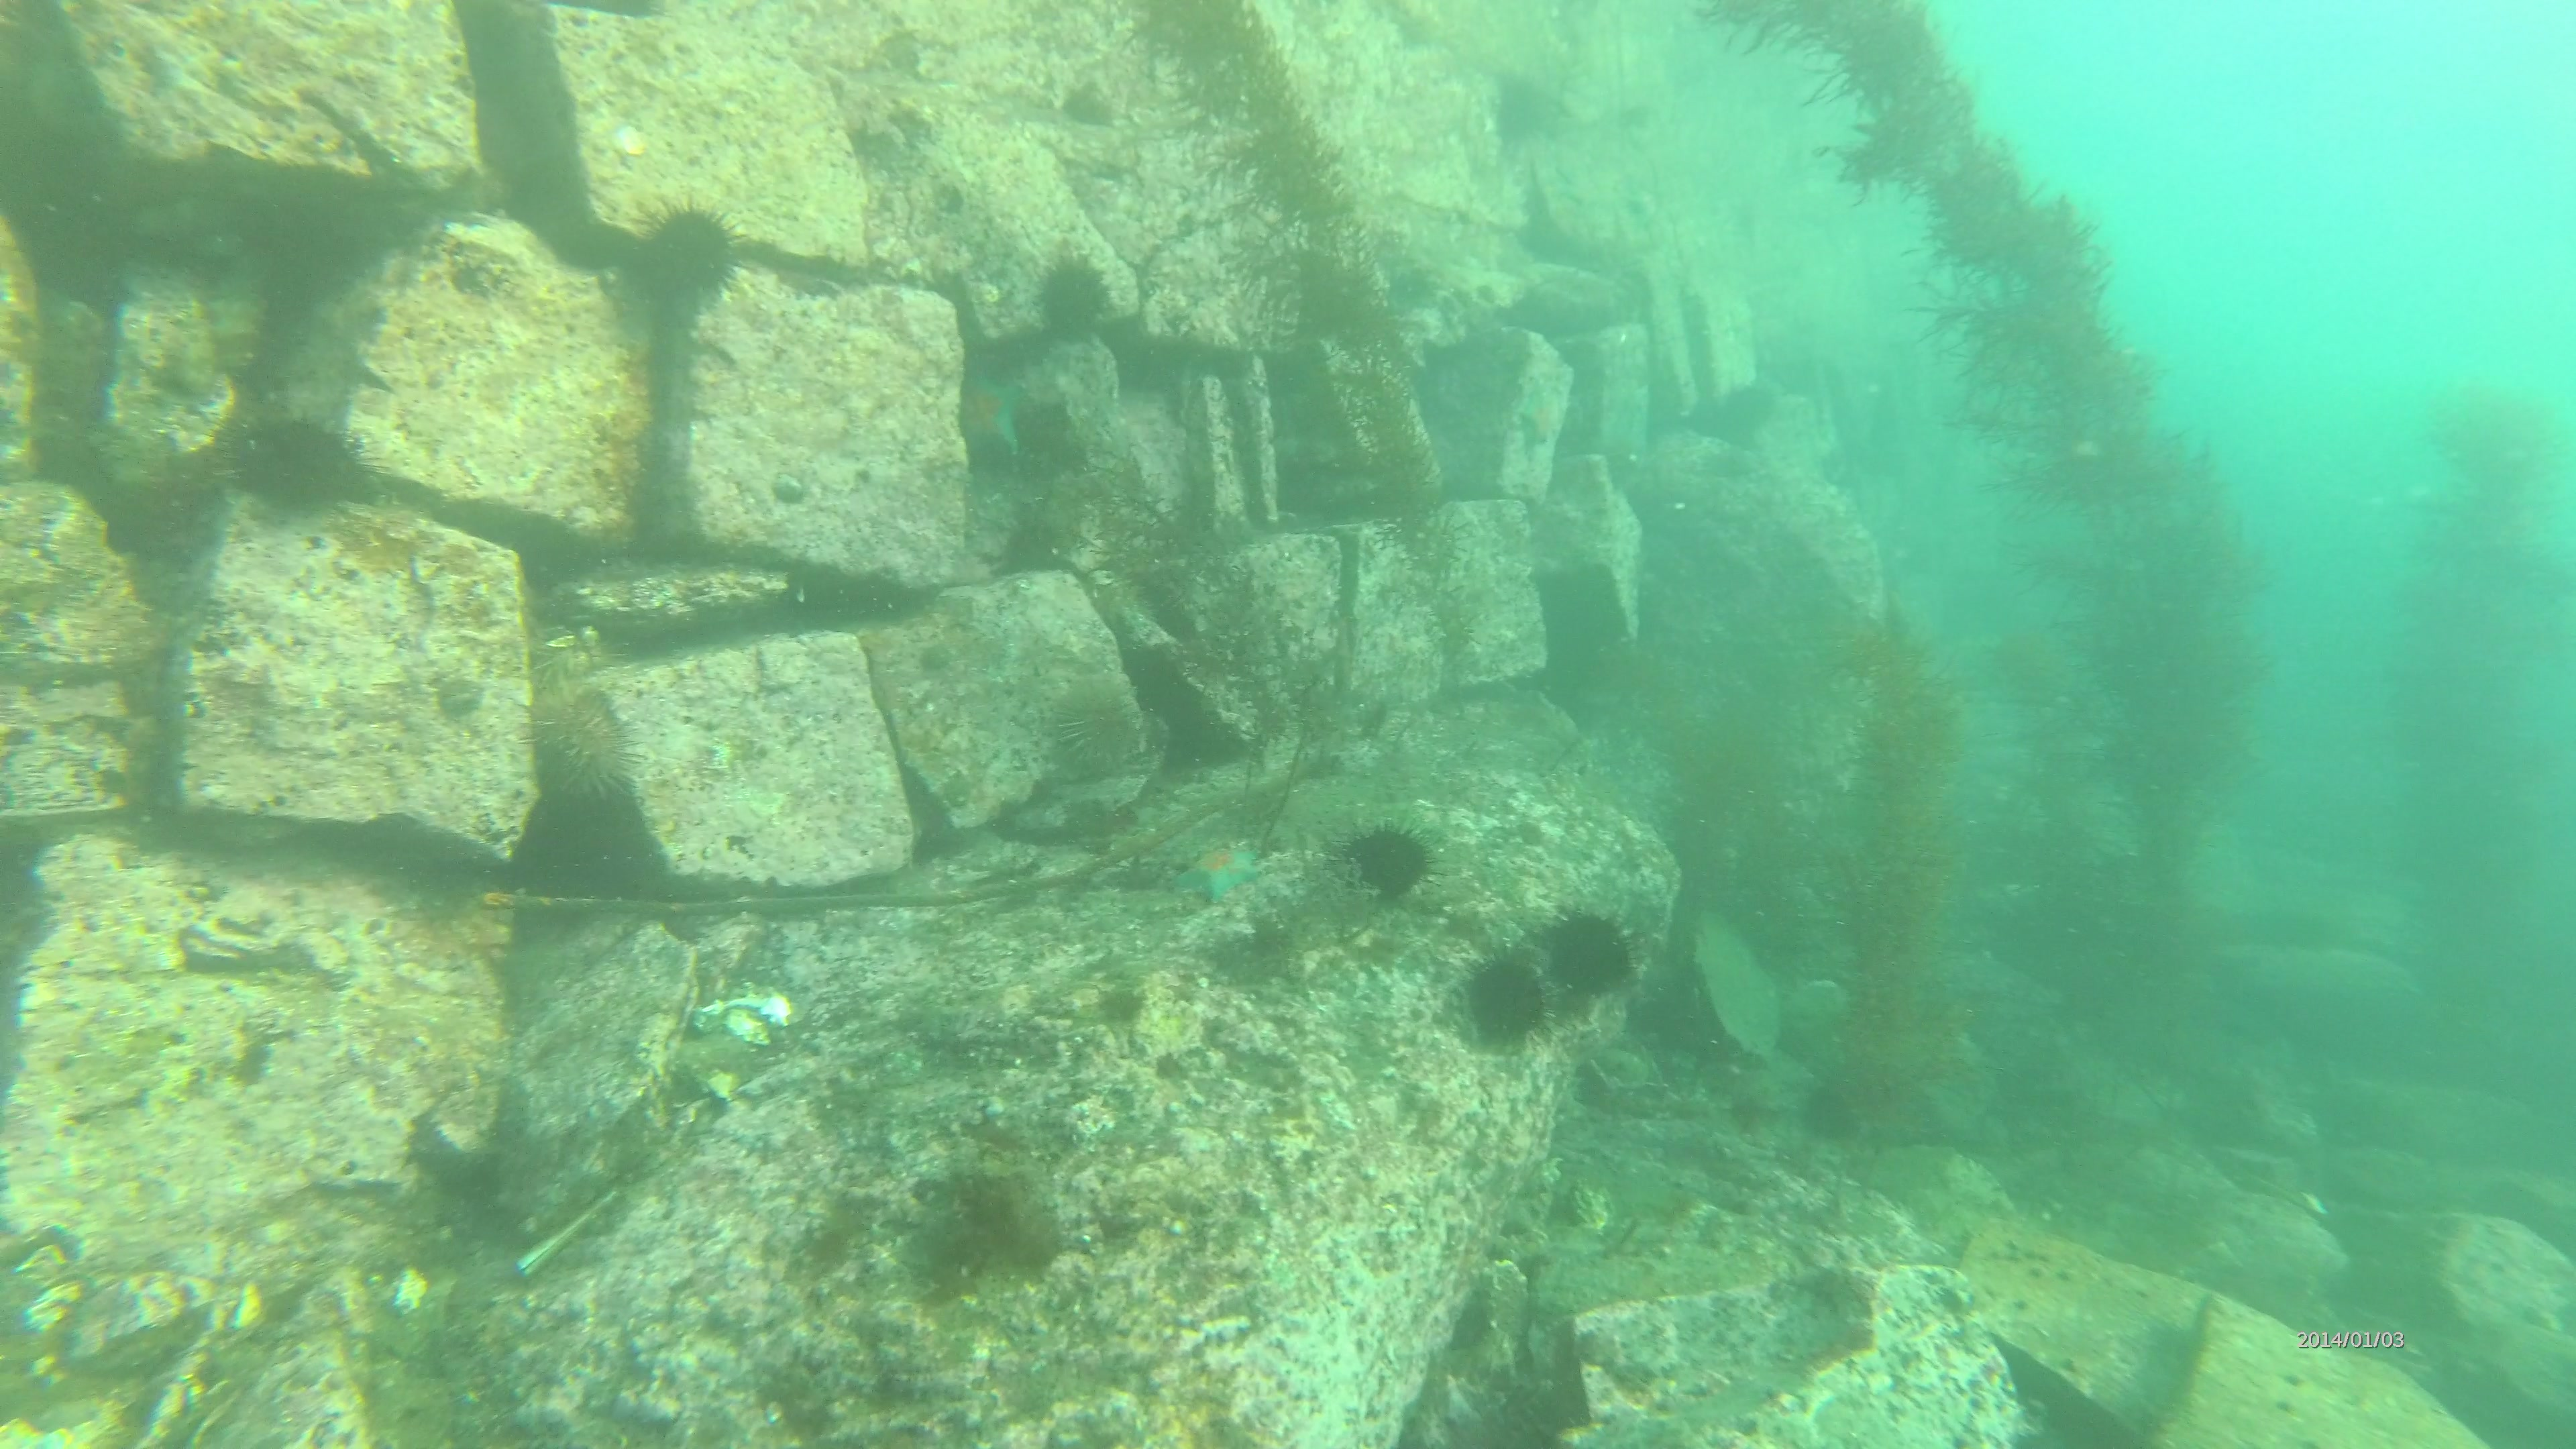echinus: (515, 672, 649, 807), (219, 412, 387, 511), (626, 191, 754, 311), (1529, 893, 1644, 1005), (1463, 938, 1560, 1053), (1336, 803, 1433, 904), (1035, 249, 1113, 338)
starfish: (941, 361, 1033, 471), (1169, 830, 1265, 904)
